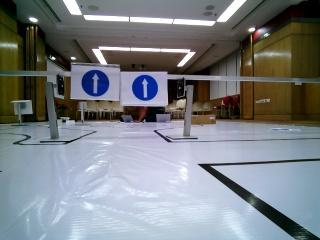straight: (69, 60, 113, 99), (123, 71, 165, 102)
